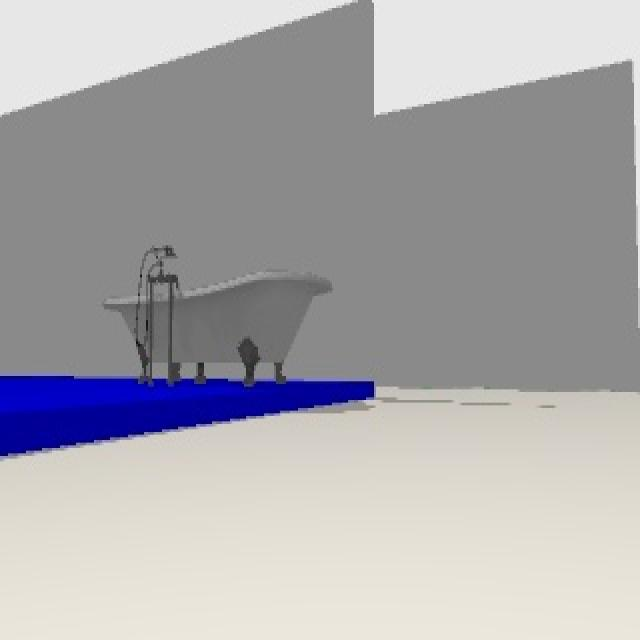bathtub: (103, 238, 338, 394)
